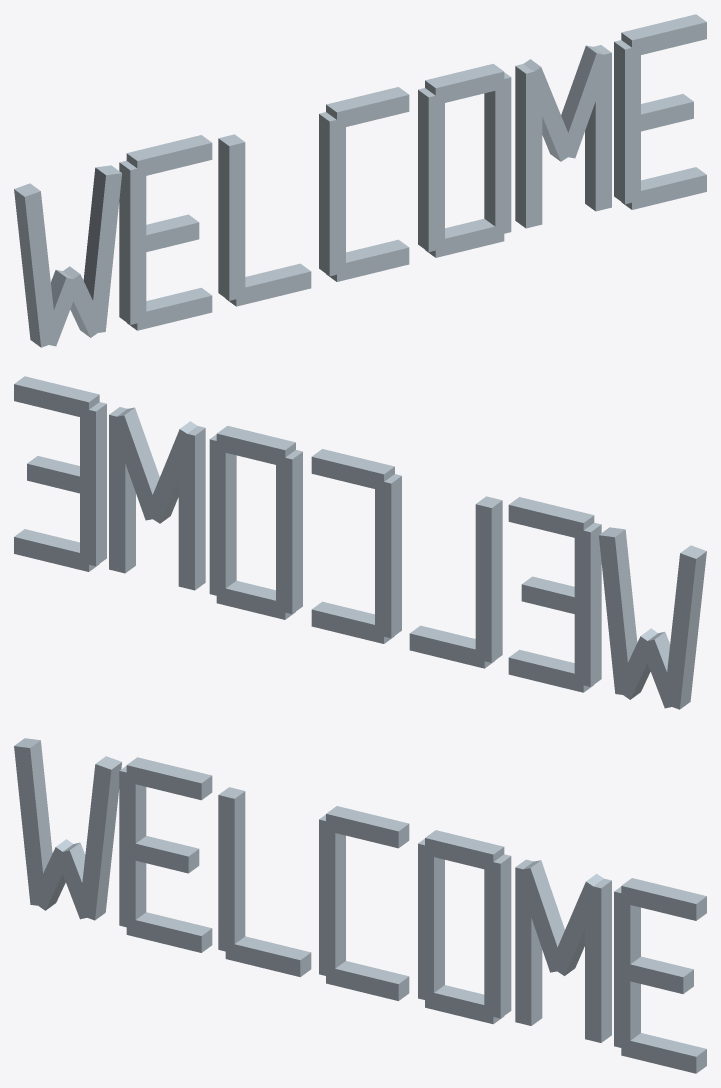
Rendered from welcome-statue.glb.
3 renders of one model, top to bottom at view 1: azimuth 30°, elevation 25°; view 2: azimuth 150°, elevation 25°; view 3: azimuth 330°, elevation 25°, orthographic.
Parts seen in each view (by area): view 1: WELCOME; view 2: WELCOME; view 3: WELCOME.
Boxes of the visible parts, left/top/right/bottom form: WELCOME: left=14, top=14, right=706, bottom=347; WELCOME: left=14, top=376, right=706, bottom=709; WELCOME: left=14, top=738, right=706, bottom=1073.
Size of the model in its own units: 8.41 by 2 by 0.23.
